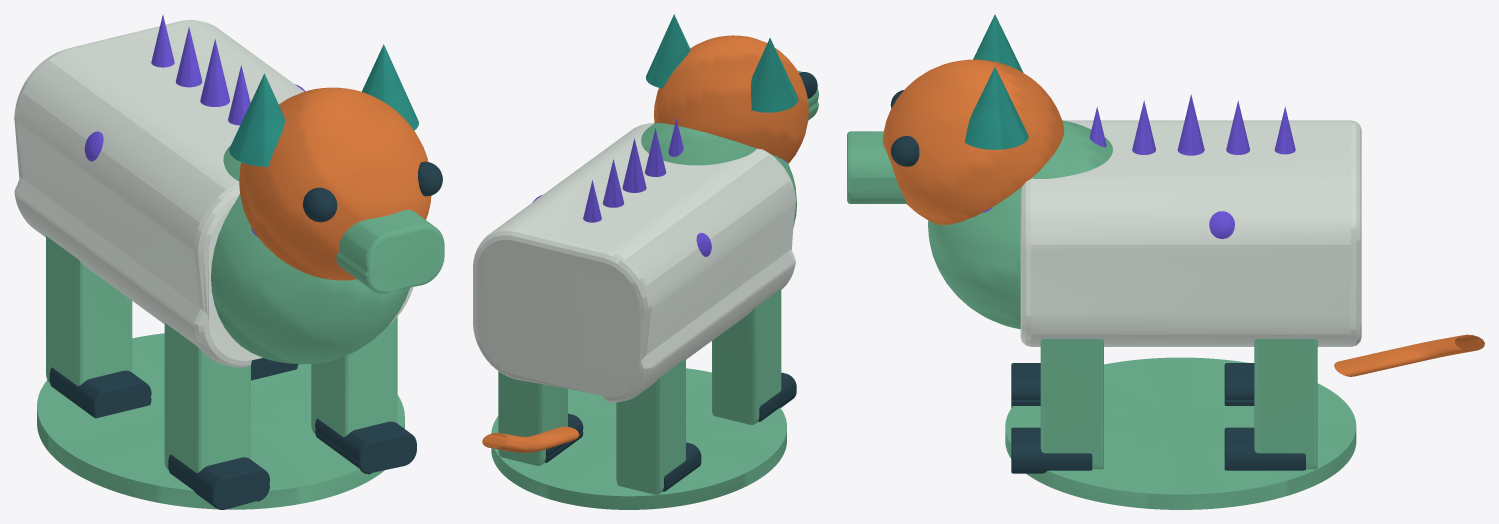
The model's file is 0877_森林动物图鉴_南美貘.glb.
3 views of the same model, side by side, from view 1: azimuth 30°, elevation 25°; view 2: azimuth 150°, elevation 25°; view 3: azimuth 270°, elevation 25° (orthographic). The views are drawn at different scales.
Parts seen in each view (by area): view 1: card_0877; view 2: card_0877; view 3: card_0877.
Boxes of the visible parts, x1,y1,x2,y2 form: card_0877: (14, 15, 444, 509); card_0877: (473, 14, 818, 509); card_0877: (847, 14, 1484, 509).
Bounding box in the file's own units: 0.7324 × 1 × 1.44.
